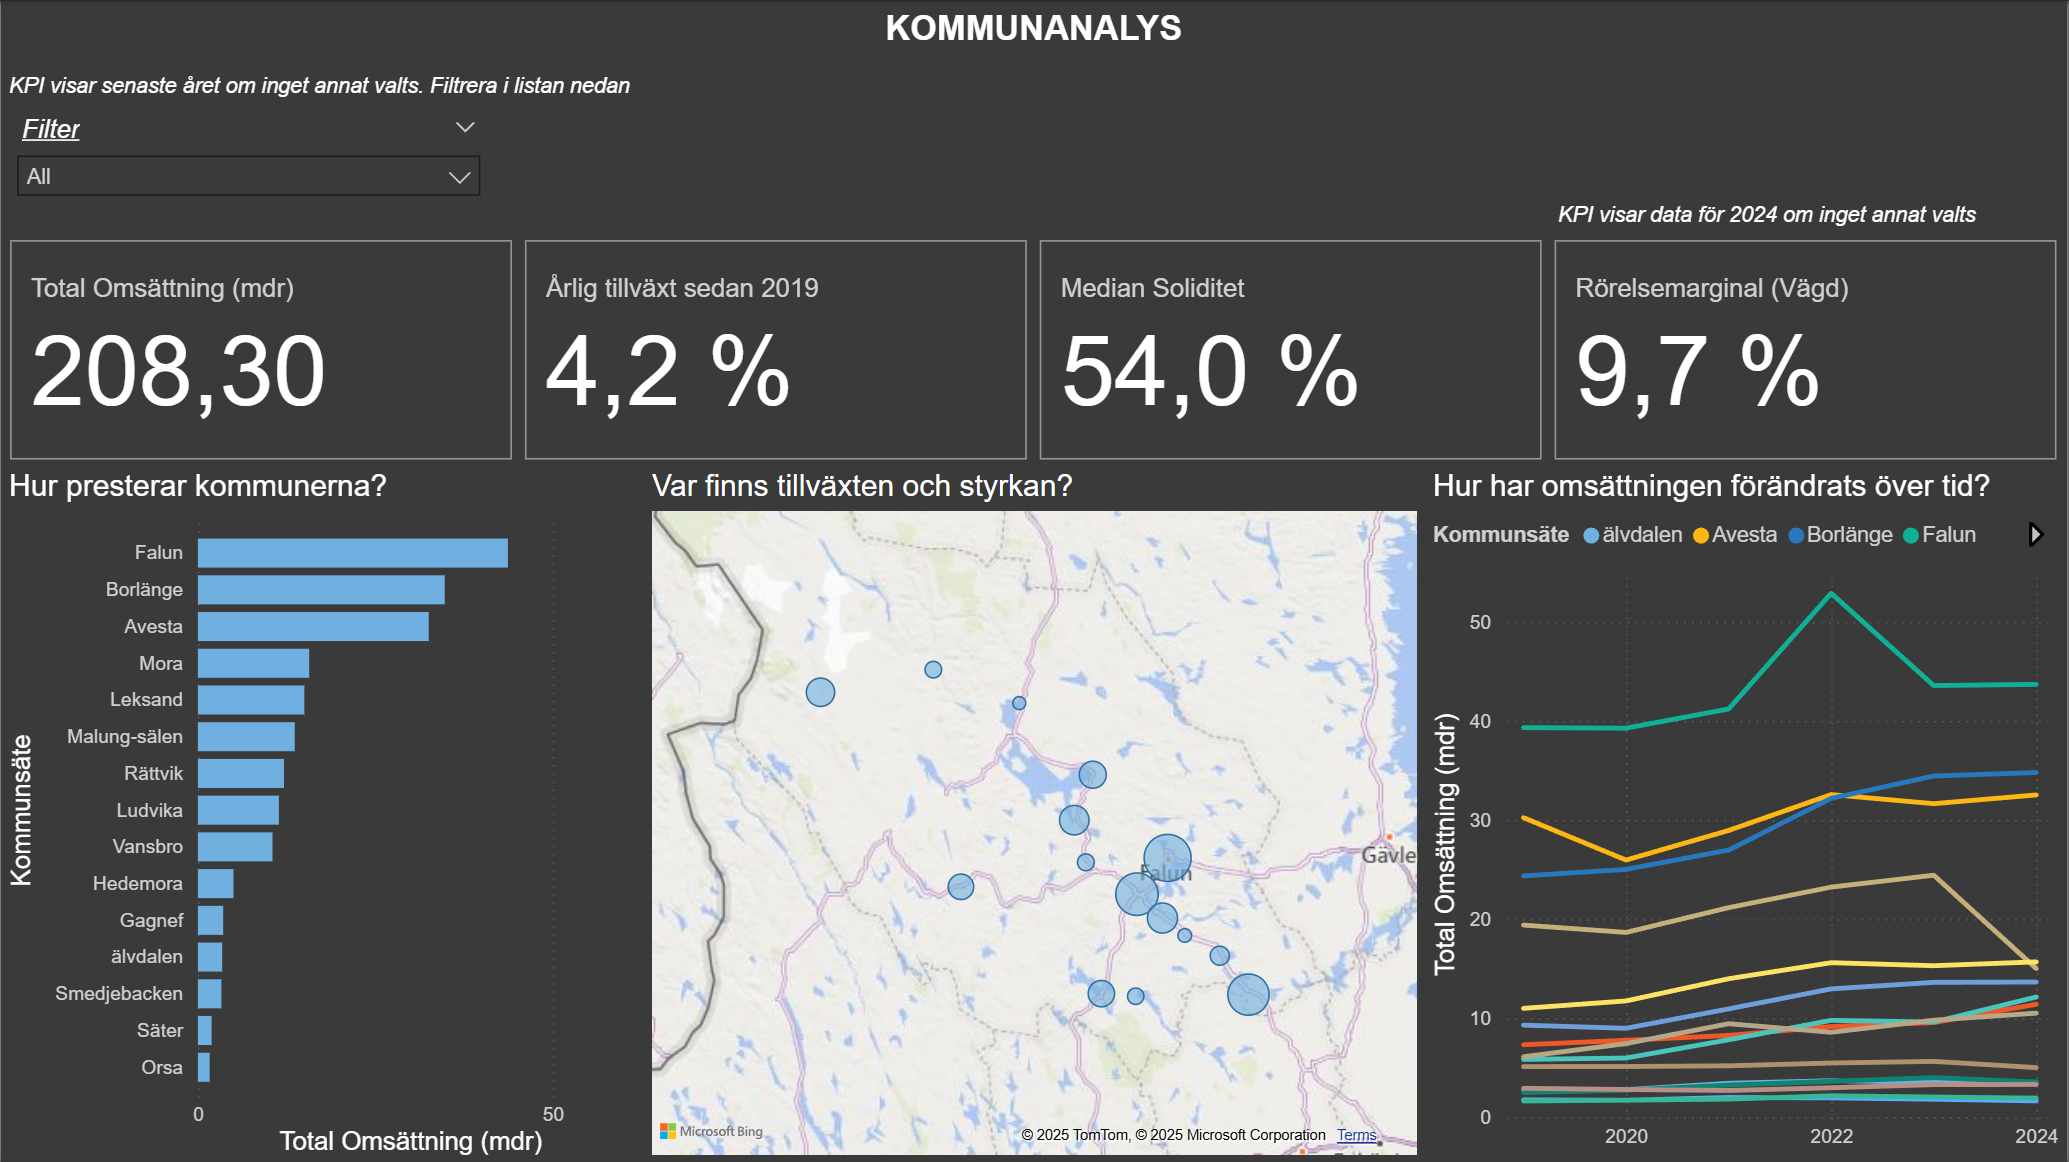

The dashboard page shown, as its layout file describes it:
{"tool":"powerbi","page":{"name":"Kommun","canvas":[1280,720],"ordinal":2},"visuals":[{"type":"slicer","fields":{"Values":["dimYear.YearText","Financials.Kommunsäte","Financials.Bransch huvudgrupp"]},"box":[0,65.7,306.7,77.5],"z":0},{"type":"textbox","box":[0,0,1280.1,65.7],"z":1000},{"type":"cardVisual","fields":{"Data":["Financials.Total Omsättning (mdr)","Financials.Omsättning CAGR fr. 2019 (%)","Financials.Median Soliditet","Financials.Vägt Rörelsemarginal"]},"box":[0.5,143.1,1279.5,146.9],"z":2000},{"type":"map","title":"Var finns tillväxten och styrkan?","fields":{"Category":["Financials.Kommunsäte"],"Size":["Financials.Total Omsättning (mdr)"]},"box":[398.4,290,483.9,430],"z":3000},{"type":"barChart","title":"Hur presterar kommunerna i Dalarna?","fields":{"Category":["Financials.Kommunsäte"],"Y":["Financials.Total Omsättning (mdr)"]},"box":[0,290,397.8,430],"z":4000},{"type":"lineChart","title":"Hur har omsättningen förändrats  över tid?","fields":{"Series":["Financials.Kommunsäte"],"Category":["dimYear.YearText"],"Y":["Financials.Total Omsättning (mdr)"]},"box":[882.3,290,397.8,430],"z":5000},{"type":"textbox","box":[960,120,300.5,26],"z":6000}]}

Visuals, with their boxes in screenshot pixels (x1, y1, x2, y2), scaled from the page's 1280x720 canvas onto the 2069x1162 screenshot:
slicer - dimYear.YearText x Financials.Kommunsäte: bbox(0, 106, 496, 231)
textbox: bbox(0, 0, 2068, 106)
cardVisual - Financials.Total Omsättning (mdr) x Financials.Omsättning CAGR fr. 2019 (%): bbox(1, 231, 2068, 468)
"Var finns tillväxten och styrkan?" map: bbox(644, 468, 1426, 1161)
"Hur presterar kommunerna i Dalarna?" barChart: bbox(0, 468, 643, 1161)
"Hur har omsättningen förändrats  över tid?" lineChart: bbox(1426, 468, 2068, 1161)
textbox: bbox(1552, 194, 2037, 236)
